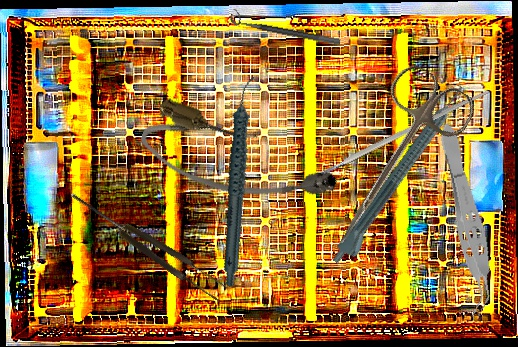Cannula: (133, 93, 344, 231)
Fixation Ring: (228, 8, 343, 46)
Handpiece: (328, 82, 476, 272), (181, 74, 298, 288)
Iris Scissors: (308, 58, 481, 268)
Scalpel Handle: (310, 87, 491, 181)
Tissue Forceps: (65, 184, 231, 305), (430, 120, 503, 320)
